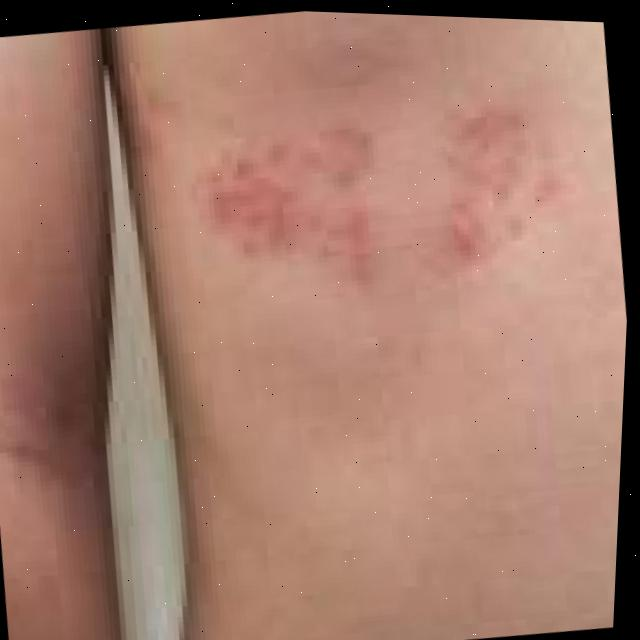Shingles: (178, 82, 548, 315)
